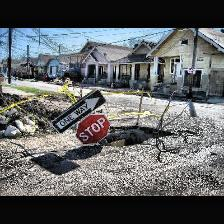pothole: (94, 122, 176, 148)
